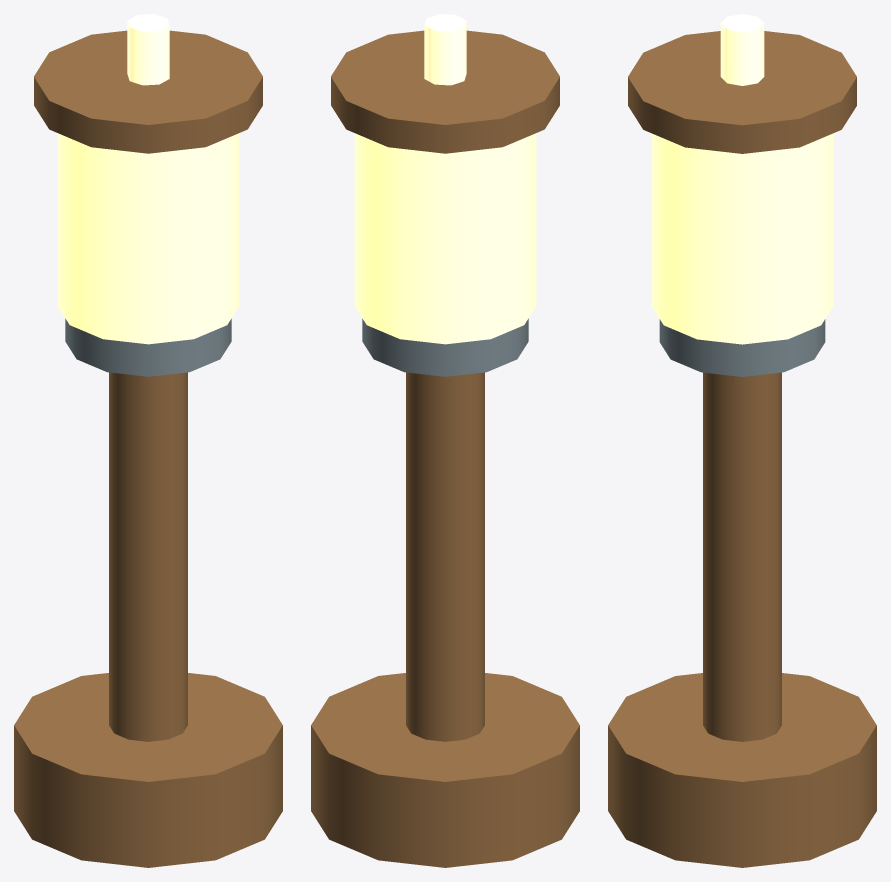
Rendered from quay-lantern.lod0.glb.
3 views of the same model, side by side, from view 1: azimuth 30°, elevation 25°; view 2: azimuth 150°, elevation 25°; view 3: azimuth 270°, elevation 25° (orthographic).
Parts seen in each view (by area): view 1: structure, glow; view 2: structure, glow; view 3: structure, glow.
Part boxes in pixels (x1,y1,x2,y2): structure: (14, 14, 282, 867); glow: (57, 133, 239, 344); structure: (311, 14, 579, 867); glow: (354, 133, 536, 344); structure: (608, 14, 876, 867); glow: (651, 133, 833, 344).
Bounding box in the file's own units: 0.68 × 2.2 × 0.68.
